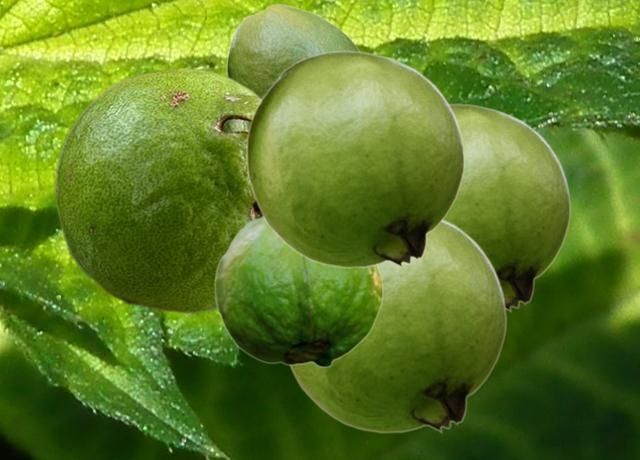guava: (54, 67, 260, 313), (245, 50, 464, 268), (289, 218, 506, 433), (446, 103, 570, 312), (214, 216, 382, 367), (226, 3, 359, 95)
